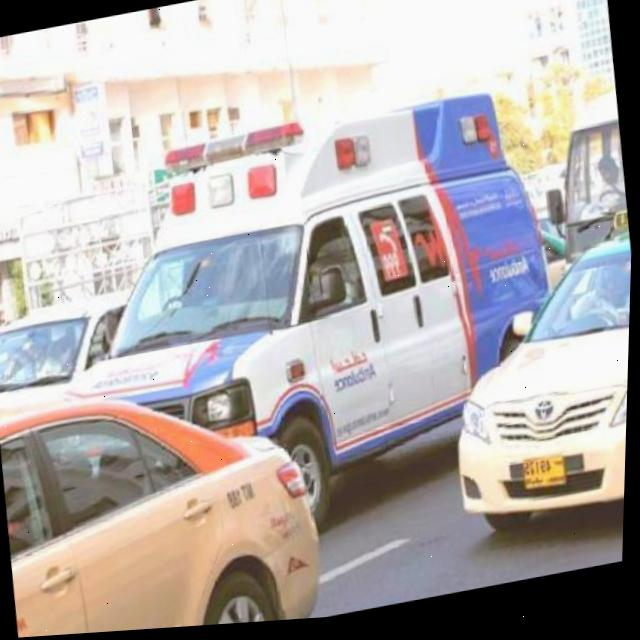emergency: (30, 81, 582, 576)
